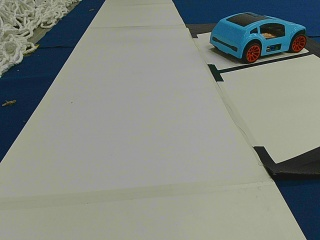car: (210, 13, 306, 61)
